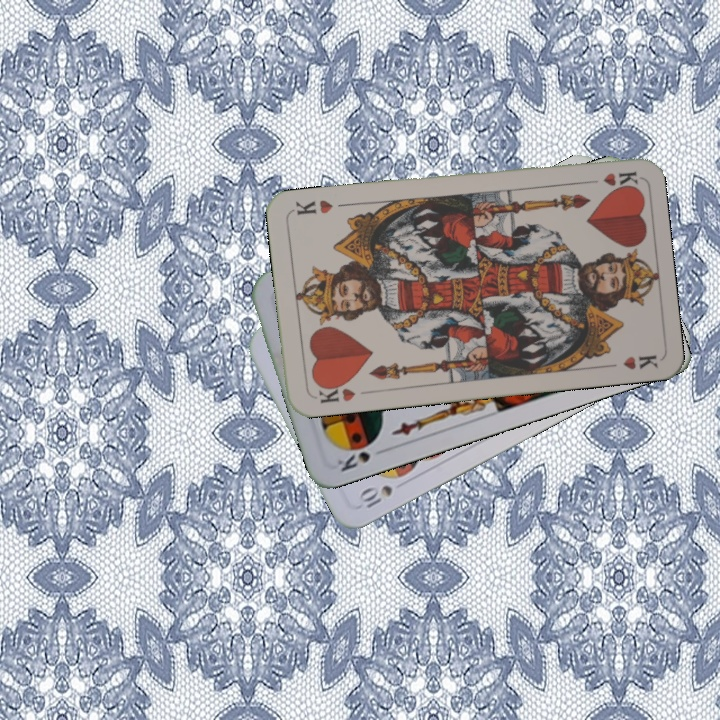HK: (310, 378, 358, 406), (579, 167, 639, 189)
S10: (354, 481, 396, 511)
SK: (333, 447, 373, 475)
